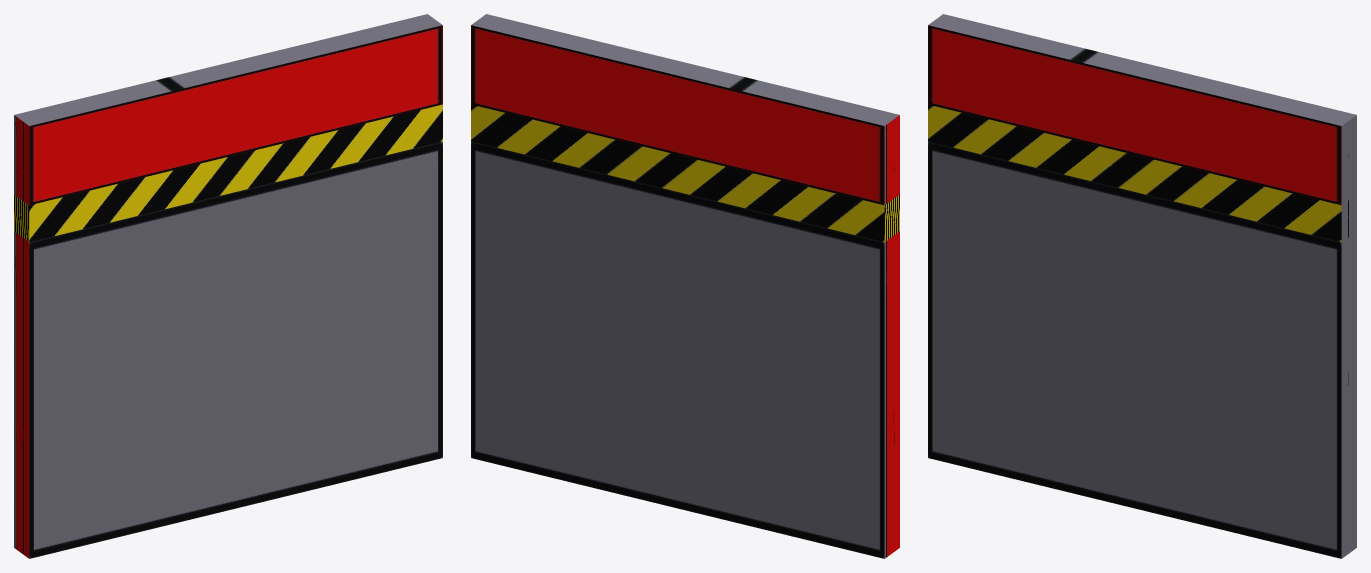
Rendered from Pared.glb.
The picture shows the model from 3 angles, left to right: view 1: azimuth 30°, elevation 25°; view 2: azimuth 150°, elevation 25°; view 3: azimuth 330°, elevation 25°; orthographic projection.
Parts seen in each view (by area): view 1: Cube.188; view 2: Cube.188; view 3: Cube.188.
Boxes of the visible parts, bbox=[...] form: Cube.188: bbox=[14, 14, 442, 558]; Cube.188: bbox=[471, 14, 899, 558]; Cube.188: bbox=[928, 14, 1356, 558].
Bounding box in the file's own units: 5.6 × 5.6 × 0.3584.
2 materials, 2 textured.
